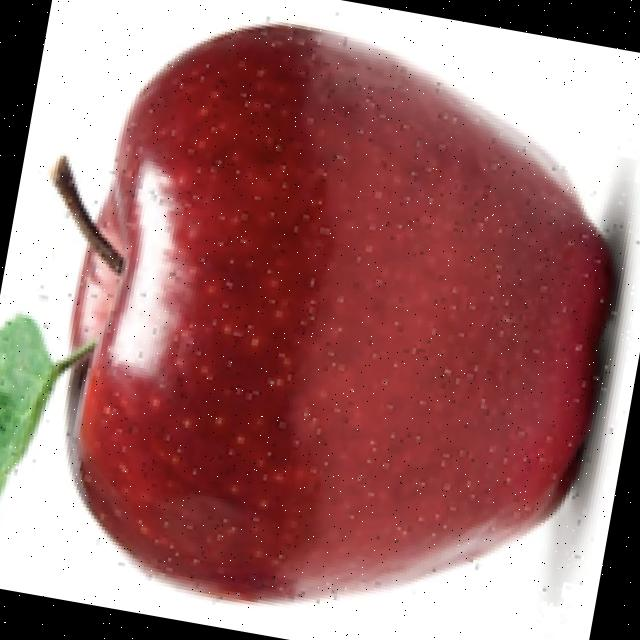apple: (0, 14, 640, 610)
